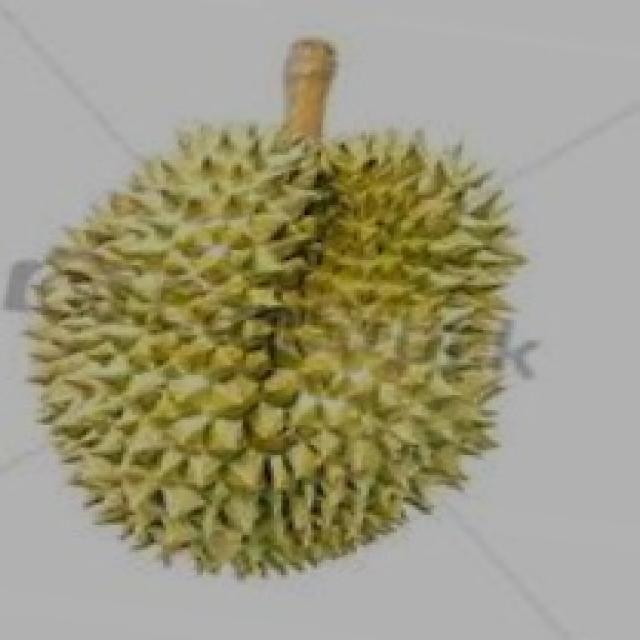fruit: (0, 235, 369, 630)
